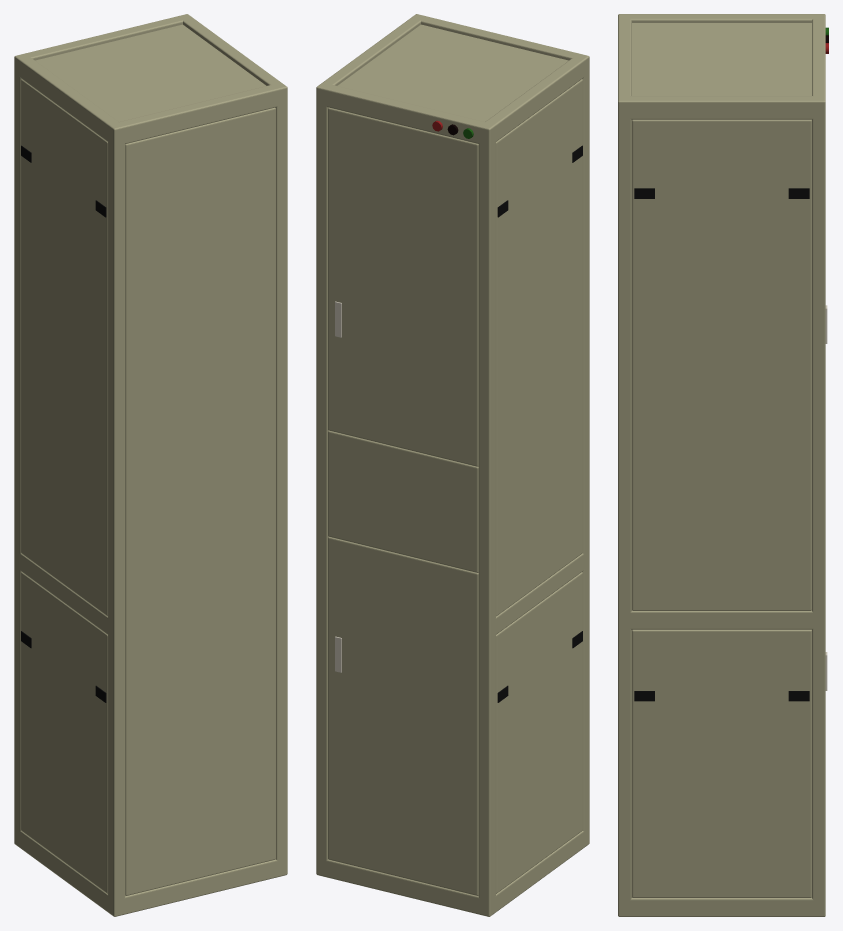
Rendered from lietou.FBX.
The picture shows the model from 3 angles, left to right: view 1: azimuth 30°, elevation 25°; view 2: azimuth 150°, elevation 25°; view 3: azimuth 270°, elevation 25°; orthographic projection. The views are drawn at different scales.
Visible parts, largest first — view 1: 列头柜0.6*0.6*2.6; view 2: 列头柜0.6*0.6*2.6; view 3: 列头柜0.6*0.6*2.6.
Boxes of the visible parts, x1,y1,x2,y2 form: 列头柜0.6*0.6*2.6: [14, 14, 287, 916]; 列头柜0.6*0.6*2.6: [316, 14, 589, 916]; 列头柜0.6*0.6*2.6: [618, 14, 828, 916].
Bounding box in the file's own units: 605 × 2600 × 609.
